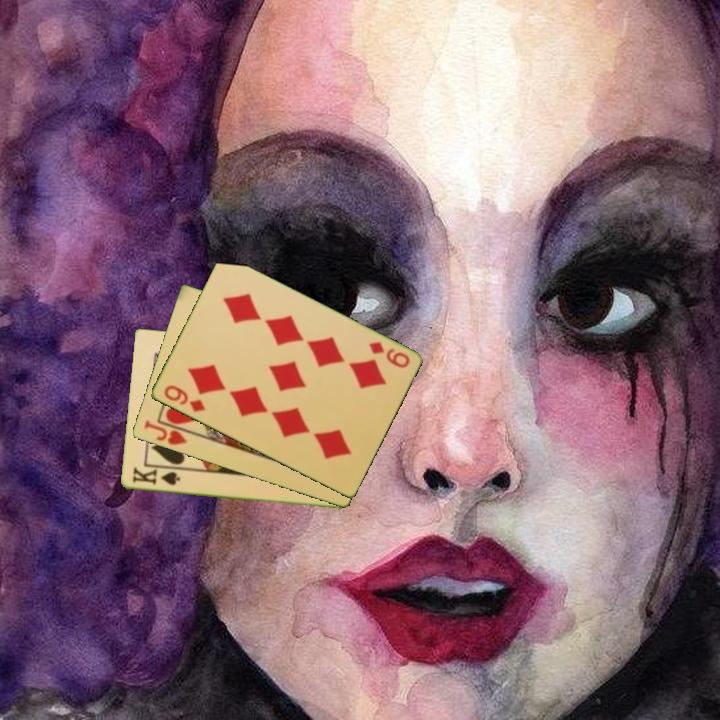9d: (160, 382, 208, 415), (364, 338, 412, 371)
Jh: (140, 417, 190, 448)
Ks: (129, 464, 182, 489)
